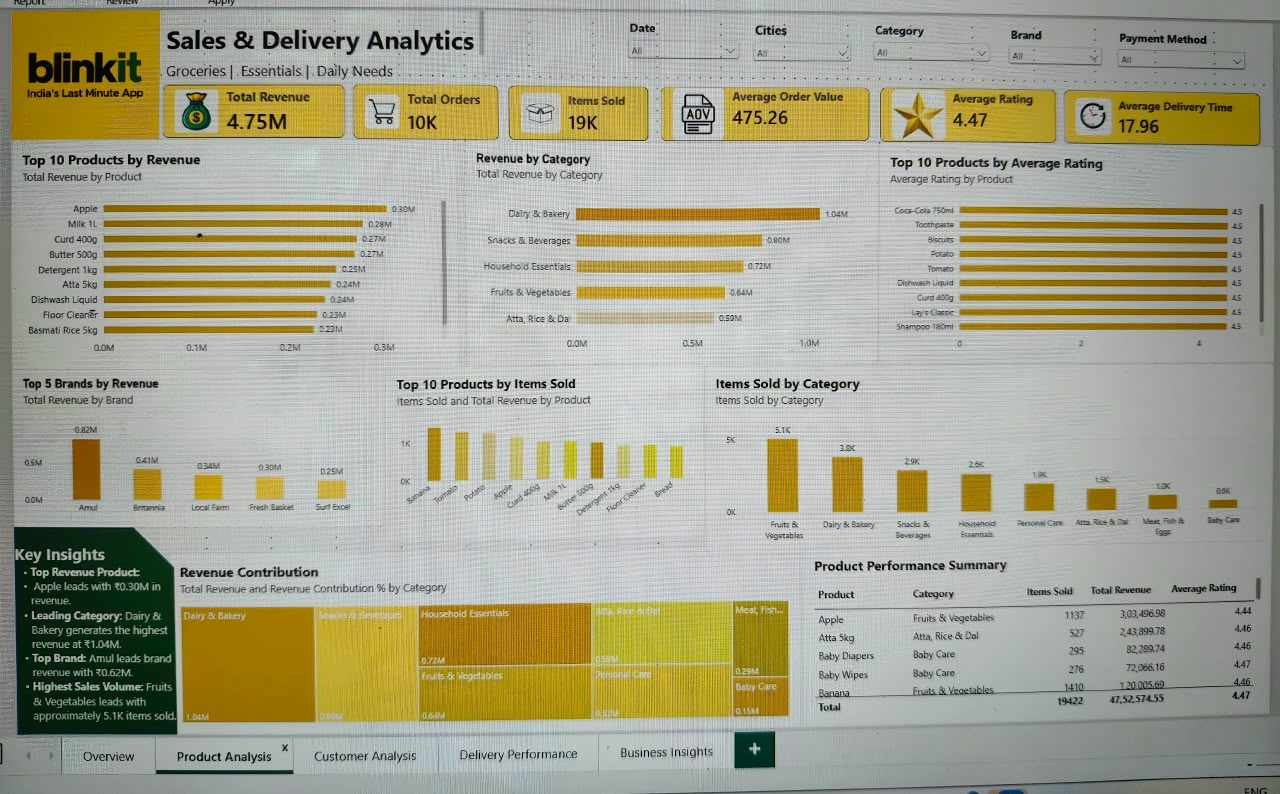

The page's visual inventory and layout, read from the dashboard file:
{"tool":"powerbi","page":{"name":"Product Analysis","canvas":[1920,1080],"ordinal":1},"visuals":[{"type":"image","box":[0,0,221.7,192.1],"z":0},{"type":"textbox","box":[232.1,0,471.5,75.4],"z":4},{"type":"textbox","box":[372,192,804,138],"z":5},{"type":"textbox","box":[372,330,804,74],"z":6},{"type":"textbox","box":[232.1,75.4,818.8,35.5],"z":7},{"type":"slicer","fields":{"Values":["Calendar1.Date"]},"box":[910.5,10.5,177.4,69.4],"z":8},{"type":"slicer","fields":{"Values":["Cities.City"]},"box":[1100.6,10.5,158.7,68],"z":9},{"type":"slicer","fields":{"Values":["Orders.Category"]},"box":[1282,10.5,190.1,69.8],"z":10},{"type":"slicer","fields":{"Values":["Orders.Brand"]},"box":[1491.3,14,156.5,72.6],"z":11},{"type":"slicer","fields":{"Values":["Orders.Payment Method"]},"box":[1664,15.7,216.3,64.5],"z":12},{"type":"cardVisual","fields":{"Data":["Calendar1.Total Revenue"]},"box":[226.1,110.9,270.5,81.3],"z":13},{"type":"cardVisual","fields":{"Data":["Calendar1.Total Orders"]},"box":[508.5,110.9,214.3,81.3],"z":14},{"type":"cardVisual","fields":{"Data":["Calendar1.Items Sold"]},"box":[737.8,109.9,209.3,80.2],"z":15},{"type":"cardVisual","fields":{"Data":["Calendar1.Average Order Value"]},"box":[966.3,109.9,315.7,80.2],"z":16},{"type":"cardVisual","fields":{"Data":["Calendar1.Average Rating"]},"box":[1297.7,109.9,272.1,82],"z":17},{"type":"cardVisual","fields":{"Data":["Calendar1.Average Delivery Time"]},"box":[1583.7,109.9,315.7,82],"z":18},{"type":"clusteredBarChart","title":"Revenue by Category","fields":{"Category":["Orders.Category"],"Y":["Calendar1.Total Revenue"]},"box":[672,192,624,336],"z":21},{"type":"clusteredColumnChart","title":"Top 5 Brands by Revenue","fields":{"Category":["Orders.Brand"],"Y":["Calendar1.Total Revenue"]},"box":[0,552,552,240],"z":22},{"type":"clusteredColumnChart","title":"Top 10 Products by Items Sold","fields":{"Category":["Orders.Product"],"Y":["Calendar1.Items Sold"]},"box":[552,528,480,264],"z":30},{"type":"treemap","title":"Revenue Contribution","fields":{"Values":["Calendar1.Total Revenue"],"Group":["Orders.Category"]},"box":[232,805.8,943.6,273.8],"z":31},{"type":"clusteredBarChart","title":"Top 10 Products by Revenue","fields":{"Category":["Products.Product"],"Y":["Calendar1.Total Revenue"]},"box":[0,192,661,341.9],"z":34},{"type":"clusteredBarChart","title":"Top 10 Products by Average Rating","fields":{"Category":["Products.Product"],"Y":["Calendar1.Average Rating"]},"box":[1299.4,198.8,620.9,341.9],"z":35},{"type":"clusteredColumnChart","title":"Items Sold by Category","fields":{"Y":["Calendar1.Items Sold"],"Category":["Orders.Category"]},"box":[1032,552,888,264],"z":36},{"type":"tableEx","title":"Product Performance Summary","fields":{"Values":["Orders.Product","Orders.Category","Calendar1.Items Sold","Calendar1.Total Revenue","Calendar1.Average Rating"]},"box":[1180.8,805.8,739.5,273.8],"z":37}]}

Visuals, with their boxes on the page's 1920x1080 design canvas (x1, y1, x2, y2). These are canvas units, not pixel positions in the 1280x794 screenshot, which may show the page scaled, cropped or inside an application window:
image: (x1=0, y1=0, x2=222, y2=192)
textbox: (x1=232, y1=0, x2=704, y2=75)
textbox: (x1=372, y1=192, x2=1176, y2=330)
textbox: (x1=372, y1=330, x2=1176, y2=404)
textbox: (x1=232, y1=75, x2=1051, y2=111)
slicer - Calendar1.Date: (x1=910, y1=10, x2=1088, y2=80)
slicer - Cities.City: (x1=1101, y1=10, x2=1259, y2=78)
slicer - Orders.Category: (x1=1282, y1=10, x2=1472, y2=80)
slicer - Orders.Brand: (x1=1491, y1=14, x2=1648, y2=87)
slicer - Orders.Payment Method: (x1=1664, y1=16, x2=1880, y2=80)
cardVisual - Calendar1.Total Revenue: (x1=226, y1=111, x2=497, y2=192)
cardVisual - Calendar1.Total Orders: (x1=508, y1=111, x2=723, y2=192)
cardVisual - Calendar1.Items Sold: (x1=738, y1=110, x2=947, y2=190)
cardVisual - Calendar1.Average Order Value: (x1=966, y1=110, x2=1282, y2=190)
cardVisual - Calendar1.Average Rating: (x1=1298, y1=110, x2=1570, y2=192)
cardVisual - Calendar1.Average Delivery Time: (x1=1584, y1=110, x2=1899, y2=192)
"Revenue by Category" clusteredBarChart: (x1=672, y1=192, x2=1296, y2=528)
"Top 5 Brands by Revenue" clusteredColumnChart: (x1=0, y1=552, x2=552, y2=792)
"Top 10 Products by Items Sold" clusteredColumnChart: (x1=552, y1=528, x2=1032, y2=792)
"Revenue Contribution" treemap: (x1=232, y1=806, x2=1176, y2=1080)
"Top 10 Products by Revenue" clusteredBarChart: (x1=0, y1=192, x2=661, y2=534)
"Top 10 Products by Average Rating" clusteredBarChart: (x1=1299, y1=199, x2=1920, y2=541)
"Items Sold by Category" clusteredColumnChart: (x1=1032, y1=552, x2=1920, y2=816)
"Product Performance Summary" tableEx: (x1=1181, y1=806, x2=1920, y2=1080)
